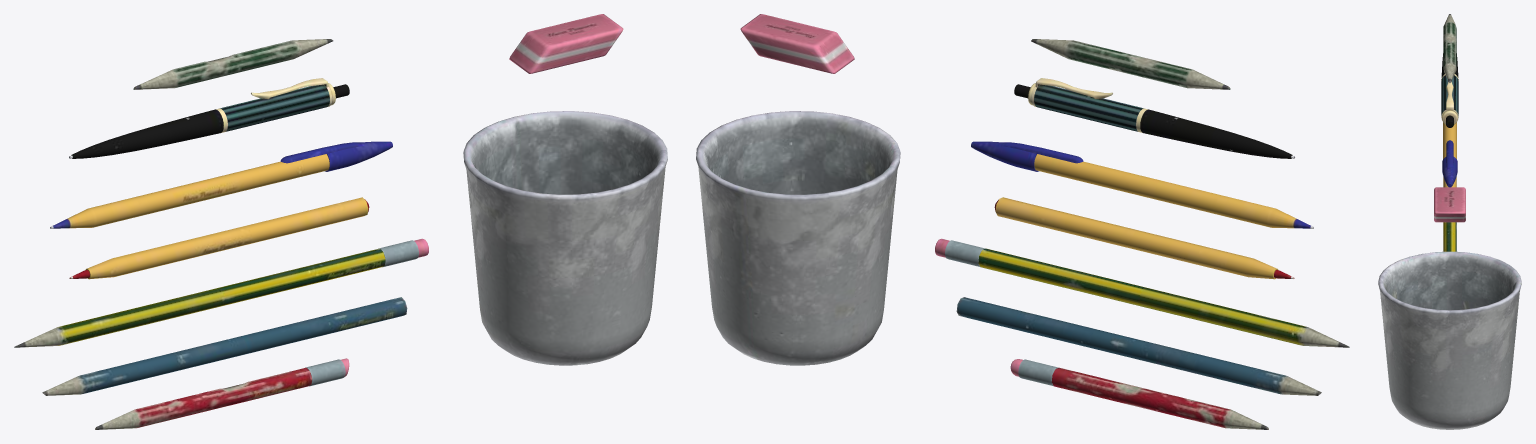
Rendered from stationery_supplies.glb.
3 views of the same model, side by side, from view 1: azimuth 30°, elevation 25°; view 2: azimuth 150°, elevation 25°; view 3: azimuth 270°, elevation 25° (orthographic). The views are drawn at different scales.
Size of the model in its own units: 0.3019 by 0.1643 by 0.0837.
1 material, 1 textured.
